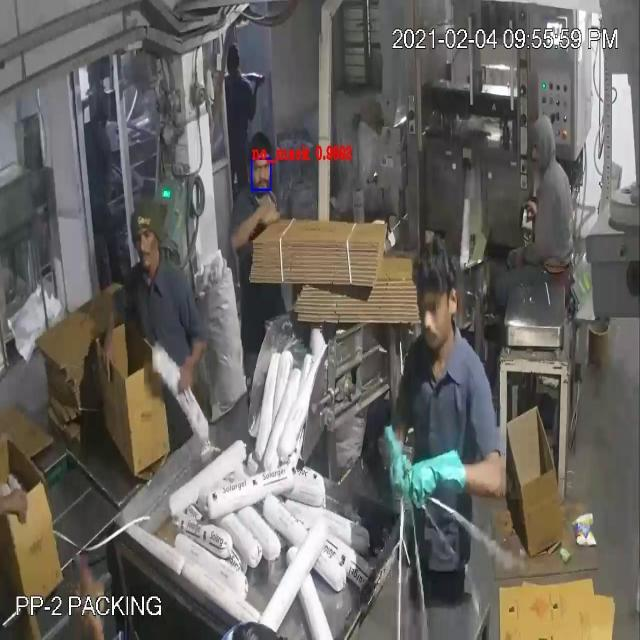No_Gloves: (20, 58, 440, 587)
